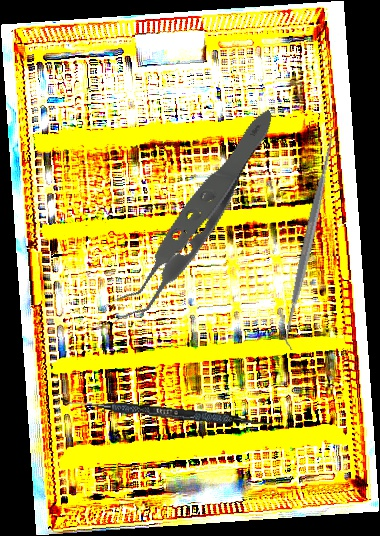Spatula Surgical: (272, 131, 346, 351), (59, 396, 274, 429)
Tissue Forceps: (56, 108, 324, 327)
